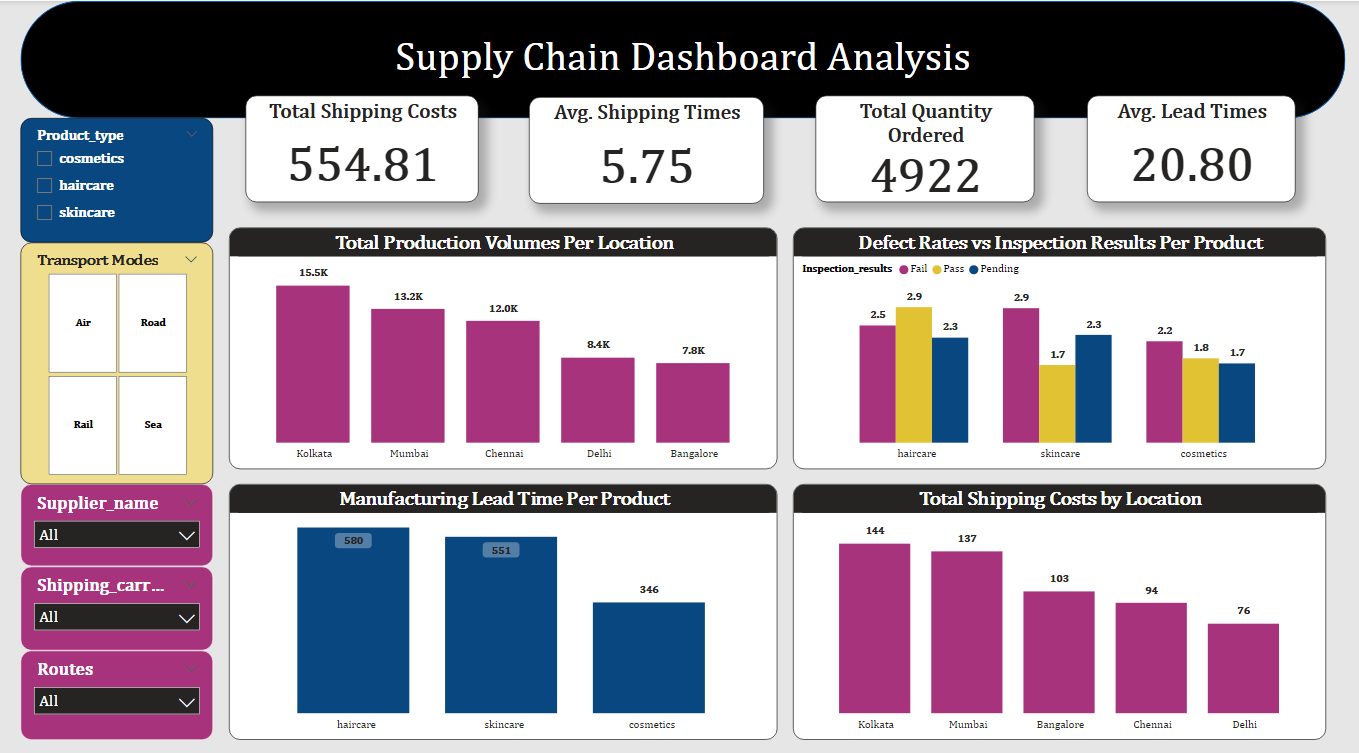

The dashboard page shown, as its layout file describes it:
{"tool":"powerbi","page":{"name":"Product","canvas":[1480,820],"ordinal":1},"visuals":[{"type":"shape","box":[24.8,0,1440,127.6],"z":0},{"type":"slicer","fields":{"Values":["FactSales.Supplier_name"]},"box":[24.8,525.7,209.5,89.5],"z":1000},{"type":"slicer","fields":{"Values":["DimShipping.Shipping_carriers"]},"box":[24.8,615.2,209.5,91.4],"z":2000},{"type":"slicer","fields":{"Values":["DimShipping.Routes"]},"box":[24.8,706.7,209.5,97.1],"z":3000},{"type":"slicer","fields":{"Values":["DimShipping.Transportation_modes"]},"box":[24.8,262.9,209.5,262.9],"z":4000},{"type":"slicer","fields":{"Values":["DimProducts.Product_type"]},"box":[24.8,127.6,209.5,135.2],"z":5000},{"type":"card","title":"Total Shipping Costs","fields":{"Values":["Dax Measures.Total Shipping Costs"]},"box":[268.6,102.9,253.3,116.2],"z":6000},{"type":"card","title":"Avg. Shipping Times","fields":{"Values":["Dax Measures.Average Shipping Times"]},"box":[577.8,104.8,255.2,116.2],"z":7000},{"type":"card","title":"Total Quantity  Ordered","fields":{"Values":["Dax Measures.Total Quantity Ordered"]},"box":[888.9,102.9,238.1,116.2],"z":8000},{"type":"card","title":"Avg. Lead Times","fields":{"Values":["Dax Measures.Averge Lead times"]},"box":[1182.9,102.9,226.7,116.2],"z":9000},{"type":"clusteredColumnChart","title":"Total Production Volumes Per Location","fields":{"Y":["Dax Measures.Total Production Volumes"],"Category":["DimShipping.Location"]},"box":[251.4,245.7,596.2,262.9],"z":9001},{"type":"clusteredColumnChart","fields":{"Y":["Dax Measures.Total Shipping Costs"],"Category":["DimShipping.Location"]},"box":[864.8,525.7,579,278.1],"z":9002},{"type":"clusteredColumnChart","title":"Defect Rates vs Inspection Results Per Product","fields":{"Y":["Dax Measures.Average Defect rates"],"Category":["DimProducts.Product_type"],"Series":["DimInventory.Inspection_results"]},"box":[864.8,245.7,579,262.9],"z":9003},{"type":"columnChart","title":"Manufacturing Lead Time Per Product","fields":{"Category":["DimProducts.Product_type"],"Y":["Sum(DimInventory.Manufacturing_lead_time)"]},"box":[251.4,525.7,596.2,278.1],"z":9004}]}

Visuals, with their boxes in screenshot pixels (x1, y1, x2, y2), scaled from the page's 1480x820 canvas onto the 1359x753 screenshot:
shape: BBox(23, 0, 1345, 117)
slicer - FactSales.Supplier_name: BBox(23, 483, 215, 565)
slicer - DimShipping.Shipping_carriers: BBox(23, 565, 215, 649)
slicer - DimShipping.Routes: BBox(23, 649, 215, 738)
slicer - DimShipping.Transportation_modes: BBox(23, 241, 215, 483)
slicer - DimProducts.Product_type: BBox(23, 117, 215, 241)
"Total Shipping Costs" card: BBox(247, 94, 479, 201)
"Avg. Shipping Times" card: BBox(531, 96, 765, 203)
"Total Quantity  Ordered" card: BBox(816, 94, 1035, 201)
"Avg. Lead Times" card: BBox(1086, 94, 1294, 201)
"Total Production Volumes Per Location" clusteredColumnChart: BBox(231, 226, 778, 467)
clusteredColumnChart - Dax Measures.Total Shipping Costs x DimShipping.Location: BBox(794, 483, 1326, 738)
"Defect Rates vs Inspection Results Per Product" clusteredColumnChart: BBox(794, 226, 1326, 467)
"Manufacturing Lead Time Per Product" columnChart: BBox(231, 483, 778, 738)
